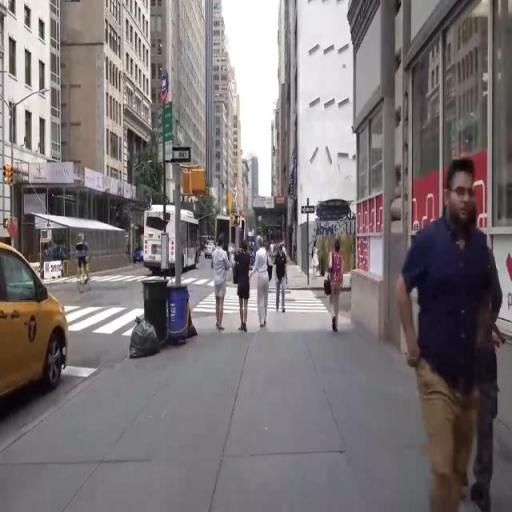person: (405, 161, 495, 512), (232, 240, 253, 339), (328, 240, 347, 345), (210, 236, 229, 332), (255, 237, 272, 335), (275, 243, 289, 312), (77, 231, 91, 288)
